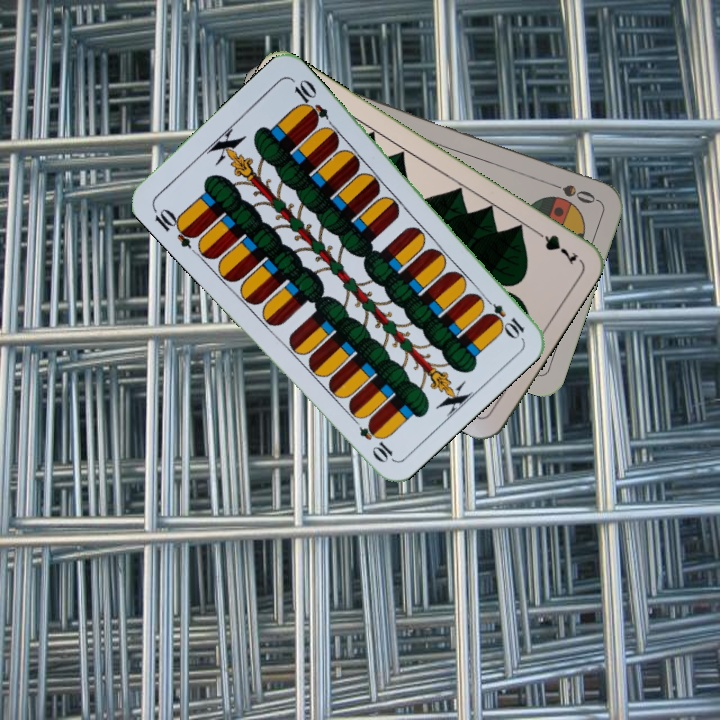E10: (149, 203, 200, 251), (478, 292, 527, 341)
G7: (528, 224, 582, 267)
SO: (542, 177, 599, 207)
